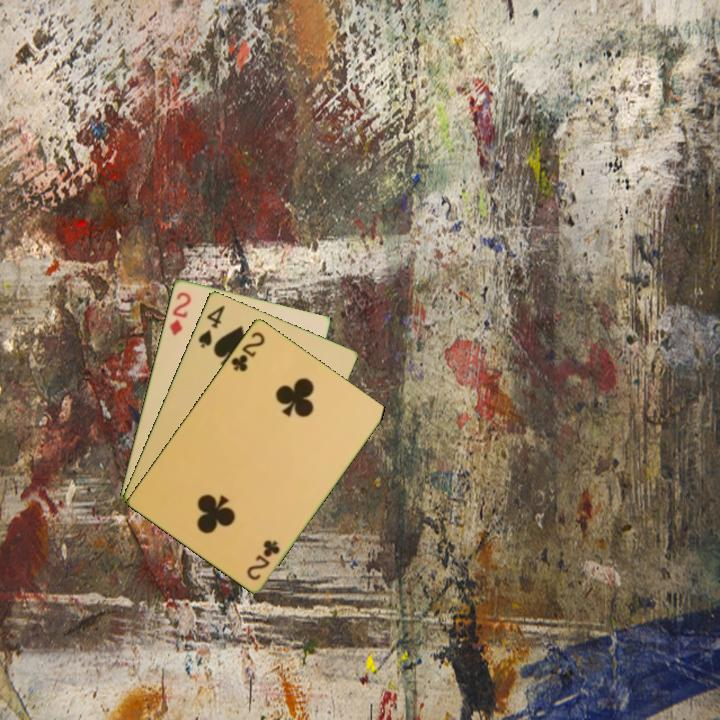2c: (227, 328, 268, 374), (243, 536, 283, 583)
2d: (166, 288, 194, 338)
4s: (194, 301, 227, 350)
